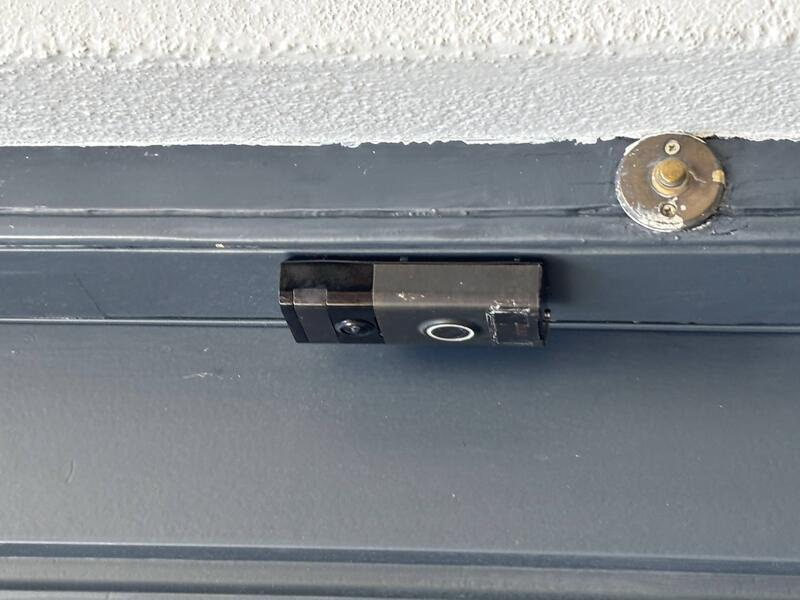doorbell: (240, 274, 349, 567)
